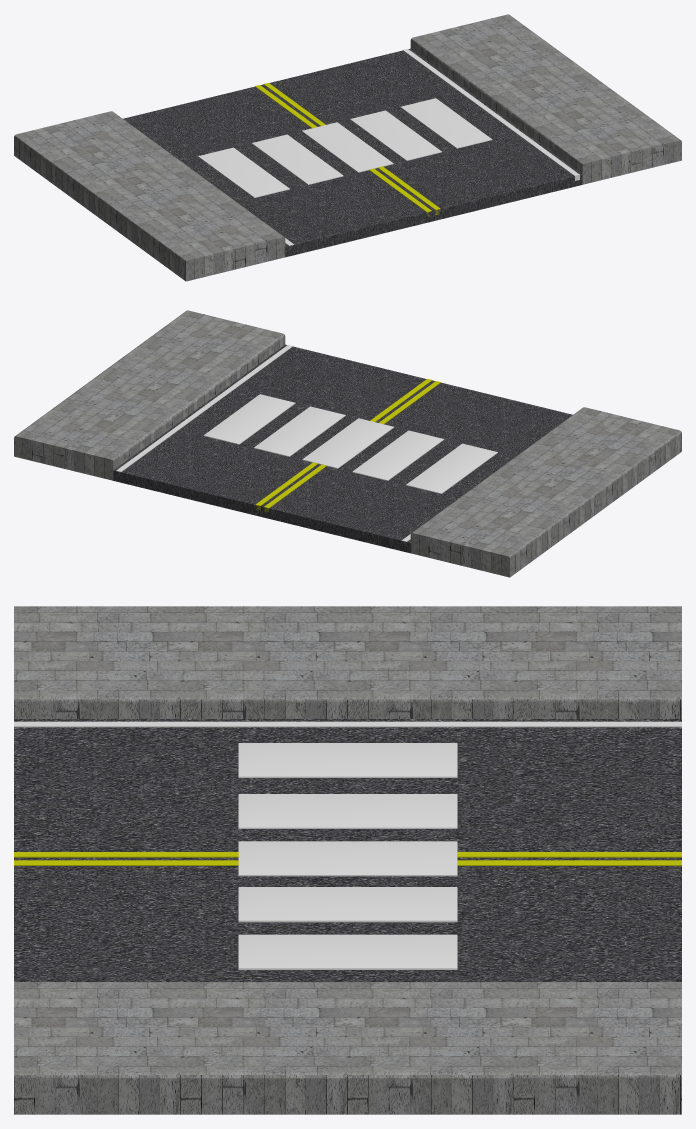
The model's file is Yellow & White Lines & Zebra Street.fbx.
3 renders of one model, top to bottom at view 1: azimuth 30°, elevation 25°; view 2: azimuth 150°, elevation 25°; view 3: azimuth 270°, elevation 25°, orthographic. The views are drawn at different scales.
Parts seen in each view (by area): view 1: pCube1, pasted__pasted__pCube1, pasted__pCube1, pasted__pasted__pasted__pCube3, pasted__pasted__pCube3, pCube3, pasted__pCube4, pasted__pCube3, pasted__pasted__pasted__pasted__pCube2, pasted__pCube2, pCube2; view 2: pCube1, pasted__pasted__pCube1, pasted__pCube1, pasted__pasted__pasted__pCube3, pasted__pasted__pCube3, pCube3, pasted__pCube4, pasted__pCube3, pasted__pasted__pasted__pasted__pCube2, pCube2, pasted__pCube2; view 3: pCube1, pasted__pCube1, pasted__pasted__pCube1, pasted__pCube3, pasted__pCube4, pCube3, pasted__pasted__pasted__pCube3, pasted__pasted__pCube3, pasted__pasted__pasted__pCube2, pCube2, pasted__pCube2.
Boxes of the visible parts, x1,y1,x2,y2 form: pCube1: (123,48,582,257); pasted__pasted__pCube1: (14,111,285,281); pasted__pCube1: (410,14,681,184); pasted__pasted__pasted__pCube3: (198,147,289,197); pasted__pasted__pCube3: (251,134,343,184); pCube3: (400,98,492,148); pasted__pCube4: (350,110,441,160); pasted__pCube3: (301,122,393,172); pasted__pasted__pasted__pasted__pCube2: (403,49,579,180); pasted__pCube2: (263,83,440,214); pCube2: (255,85,431,216); pCube1: (113,344,572,553); pasted__pasted__pCube1: (410,407,681,577); pasted__pCube1: (14,310,285,480); pasted__pasted__pasted__pCube3: (406,443,497,493); pasted__pasted__pCube3: (352,430,444,480); pCube3: (203,394,295,444); pasted__pCube4: (254,406,345,456); pasted__pCube3: (302,418,394,468); pasted__pasted__pasted__pasted__pCube2: (116,345,292,476); pCube2: (264,381,440,512); pasted__pCube2: (255,379,432,510); pCube1: (14,719,681,981); pasted__pCube1: (14,982,681,1114); pasted__pasted__pCube1: (14,606,681,718); pasted__pCube3: (238,841,457,876); pasted__pCube4: (238,887,457,922); pCube3: (238,934,457,969); pasted__pasted__pasted__pCube3: (238,743,457,777); pasted__pasted__pCube3: (238,794,457,828); pasted__pasted__pasted__pCube2: (14,721,681,727); pCube2: (14,852,681,857); pasted__pCube2: (14,860,681,865).
Bounding box in the file's own units: 9.99 × 0.401 × 6.
Materials: 8 (3 with a texture image).
